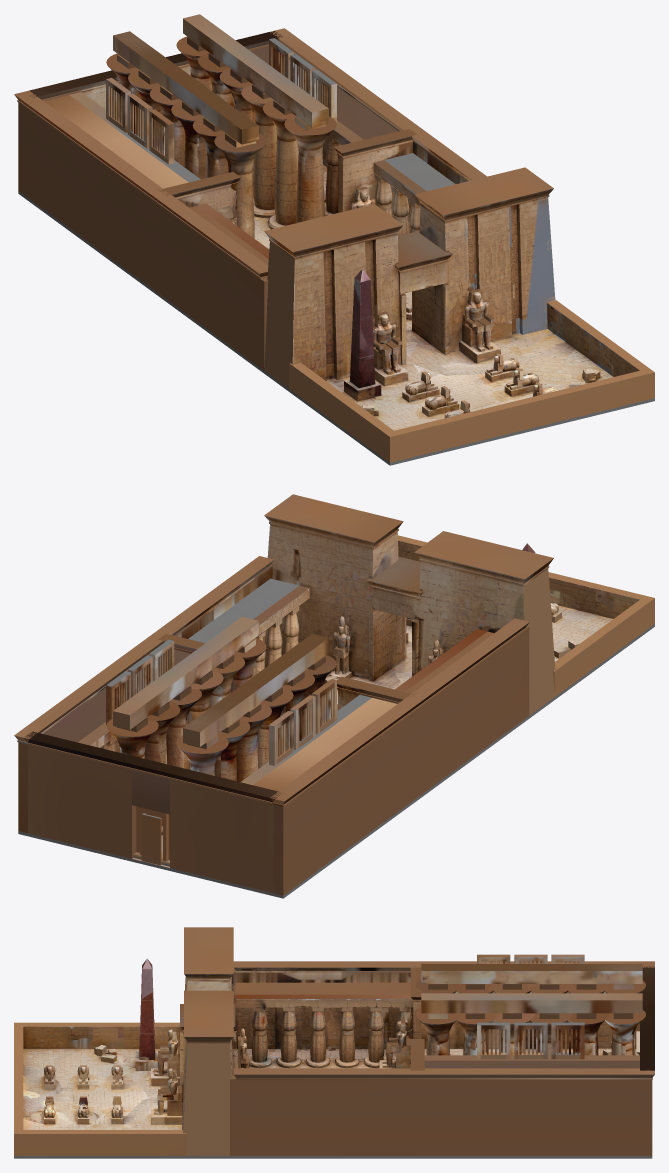
The model's file is level_2k.glb.
3 views of the same model, one above another, from view 1: azimuth 30°, elevation 25°; view 2: azimuth 150°, elevation 25°; view 3: azimuth 270°, elevation 25° (orthographic). The views are drawn at different scales.
Visible parts, largest first — view 1: luxor; view 2: luxor; view 3: luxor.
Boxes of the visible parts, x1,y1,x2,y2 form: luxor: (14, 14, 654, 465); luxor: (14, 494, 654, 898); luxor: (14, 927, 654, 1158).
Bounding box in the file's own units: 28.6 × 14.2 × 68.3.
4 materials, 4 textured.
